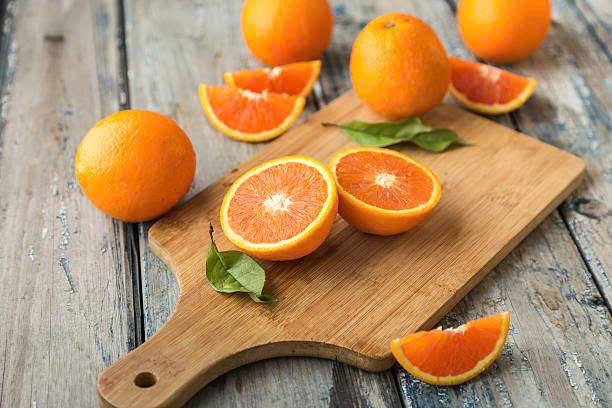papaya: (68, 98, 205, 222), (224, 156, 338, 257), (356, 7, 451, 124), (381, 308, 517, 383), (329, 144, 441, 234), (200, 66, 316, 133)
